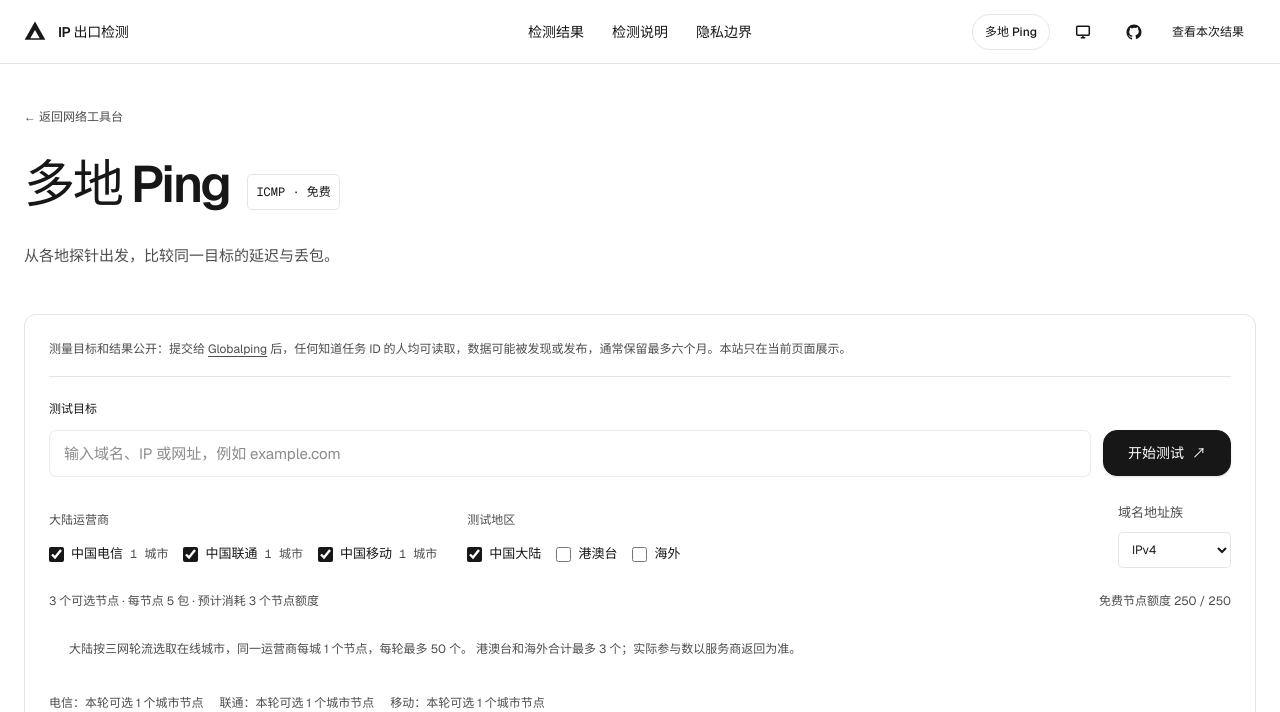
Test: 多地 Ping 独立页面 › 只在明确提交后创建一次真实 ICMP 任务，并展示同一轮节点、地图和汇总
Expected: the heading "多地 Ping" is shown, [24, 155, 229, 214]
Expected: the text "测量目标和结果公开" is shown, [49, 341, 205, 357]
Type "https://Example.COM:8443/private?secret=value#fragment" into the field labelled "测试目标" at (570, 454), box [49, 430, 1091, 478]
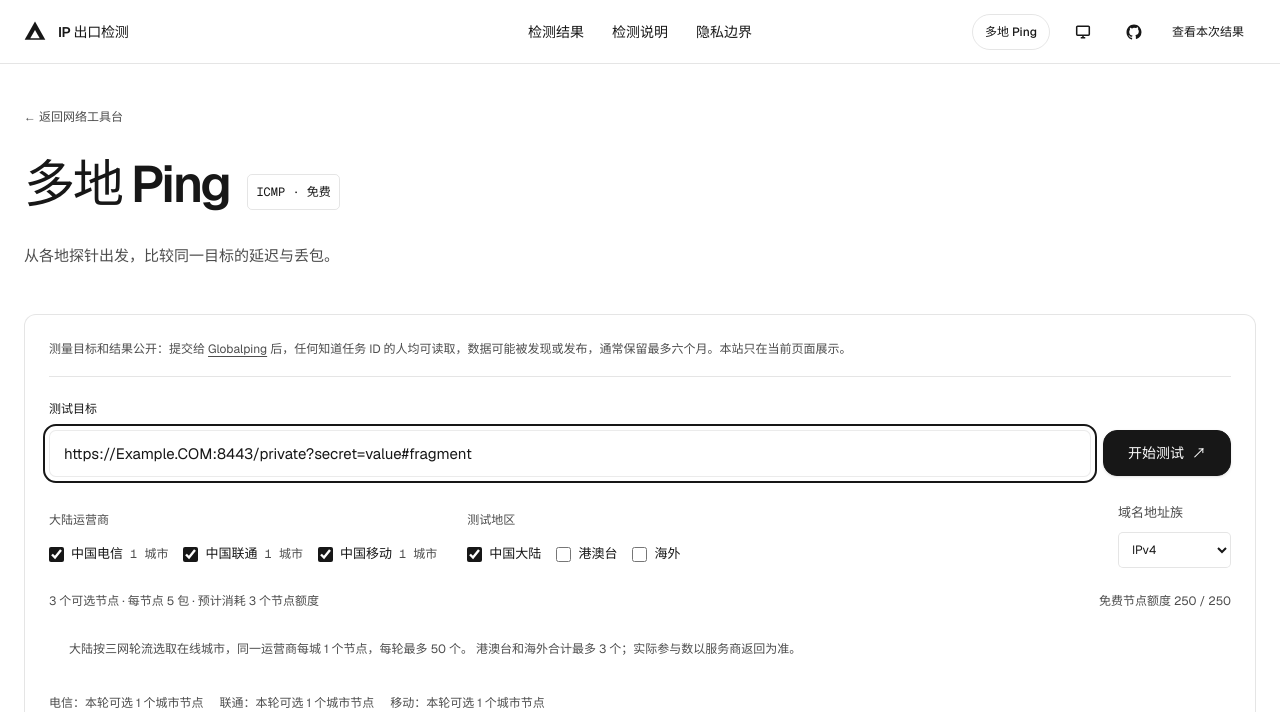
Click the button "开始测试 ↗" at (1167, 454), box [1103, 430, 1231, 476]
(page scrolled)
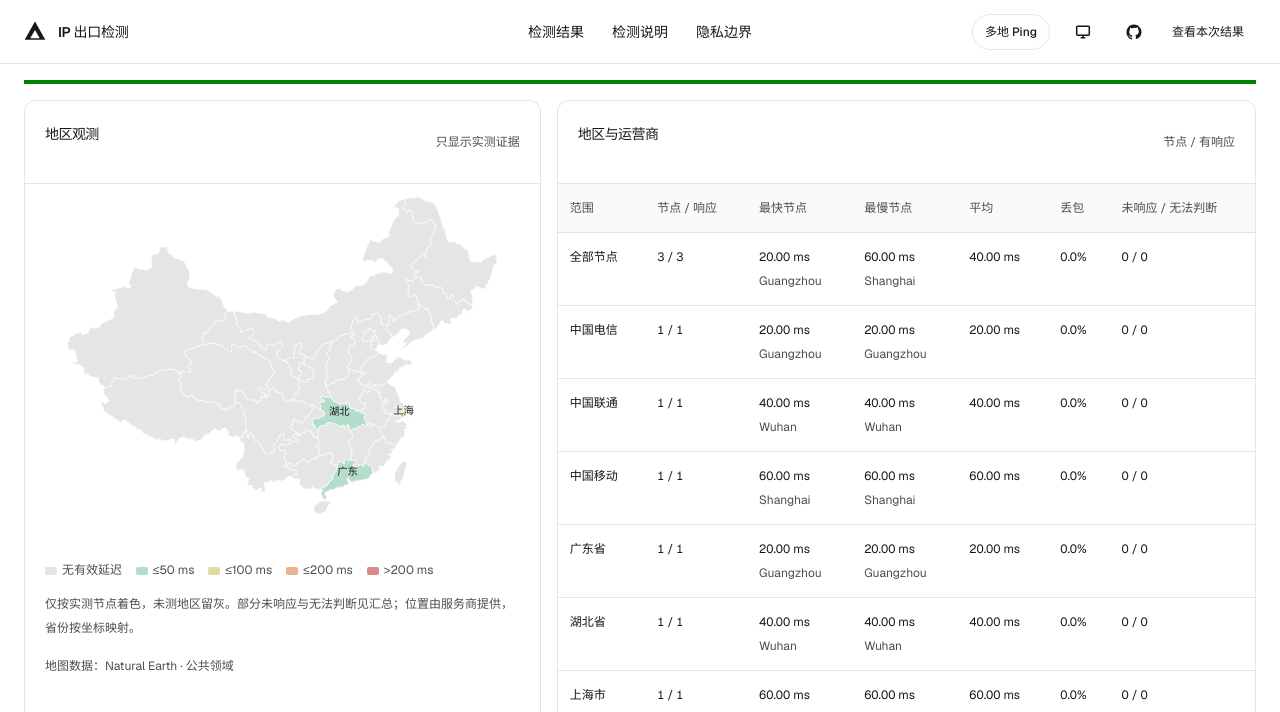
Expected: the text "本轮已完成" is shown, [24, 44, 84, 64]
Result: the text "40.00 ms" in the row of "全部节点" is shown at [969, 250, 1020, 266]
